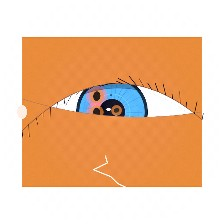foreign_body_visible: (74, 94, 119, 131)
